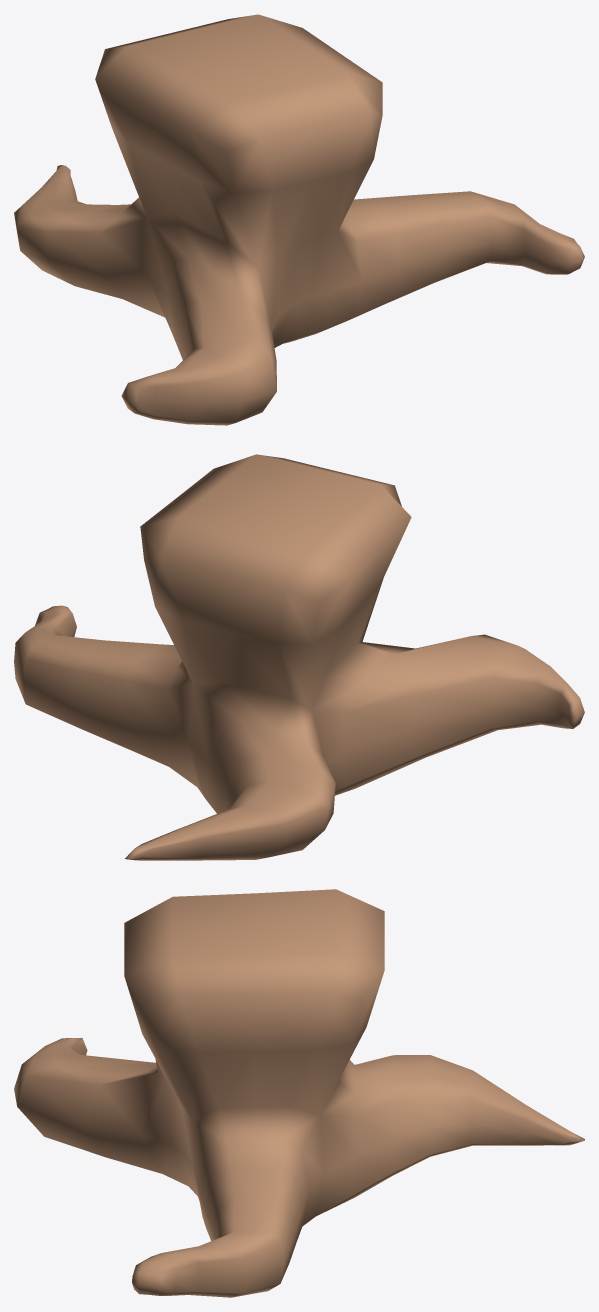
Rendered from Bigger_stump.fbx.
3 renders of one model, top to bottom at view 1: azimuth 30°, elevation 25°; view 2: azimuth 150°, elevation 25°; view 3: azimuth 270°, elevation 25°, orthographic. The views are drawn at different scales.
Parts seen in each view (by area): view 1: pCube1; view 2: pCube1; view 3: pCube1.
Part boxes in pixels (x1,y1,x2,y2): pCube1: [14, 14, 584, 425]; pCube1: [14, 454, 584, 860]; pCube1: [14, 889, 584, 1297].
Bounding box in the file's own units: 236 × 128 × 238.
